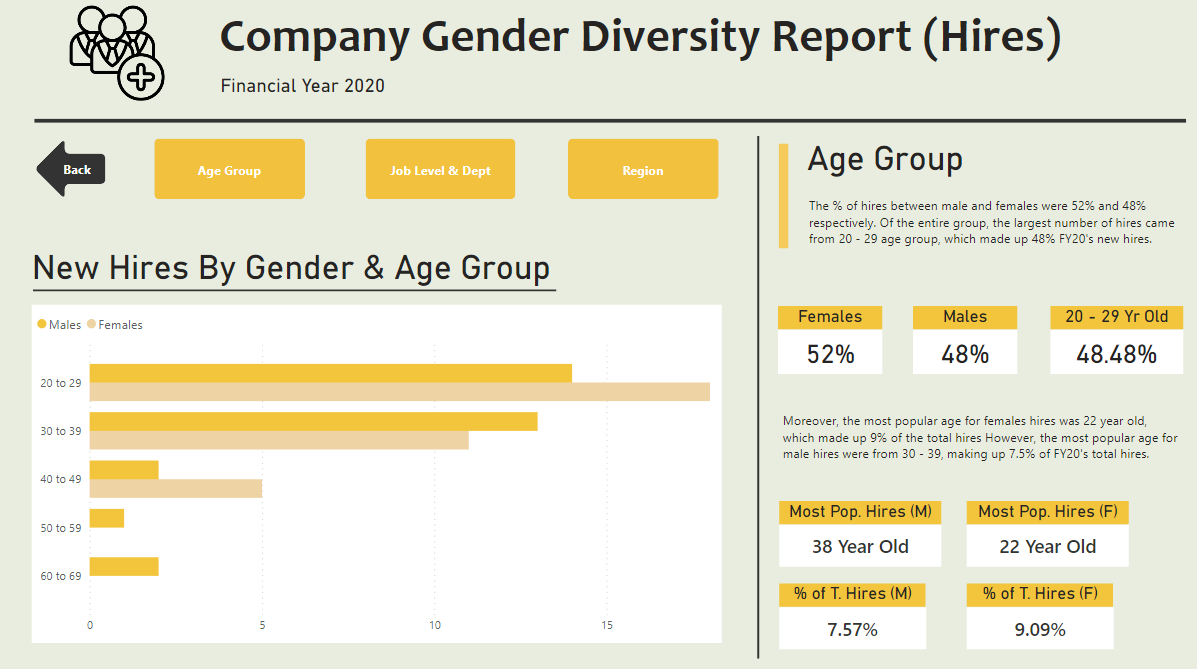

What the dashboard file says about the page in this screenshot:
{"tool":"powerbi","page":{"name":"Hires","canvas":[1280,720],"ordinal":1},"visuals":[{"type":"shape","title":"Company Gender Diversity Report (Hires)","box":[224.3,16.7,908.1,66.9],"z":0,"group":"g14"},{"type":"actionButton","title":"Region Button","box":[596.6,158,160.4,65.1],"z":0,"group":"g13"},{"type":"group","id":"g1","title":"AG Right (Body Insight & Cards)","box":[821.2,158,436.6,544.1],"z":0,"group":"g11"},{"type":"shape","title":"New Hires By Gender & Age Group ","box":[25.3,273.6,558.4,47],"z":0,"group":"g9"},{"type":"clusteredBarChart","title":"New Hires By Age Group","fields":{"Category":["FACT-table.AgeGroup"],"Y":["Measures.Hires.FY20 Total Male Hires","Measures.Hires.FY20 Total Female Hires"]},"box":[25.3,335.3,735.7,360.6],"z":0,"group":"g8"},{"type":"card","fields":{"Values":["Measures.Hires.FY20 % of Female Hires Against Total FY20 Hires"]},"box":[821.2,361.9,111.1,47.5],"z":0,"group":"g16"},{"type":"card","fields":{"Values":["Measures.Hires.FY20 % of Male Hires Against Total FY20 Hires"]},"box":[965.7,361.9,111.1,47.5],"z":0,"group":"g15"},{"type":"card","fields":{"Values":["Measures.Hires.FY20 % New Hires By Gender & Age Group For 20 to 29"]},"box":[1111.9,361.9,141.3,47.5],"z":0,"group":"g17"},{"type":"group","id":"g2","title":"Group 5","box":[821.9,545.1,172.5,24.9],"z":0,"group":"g10"},{"type":"shape","title":"Most Pop. Hires (M)","box":[821.9,545.1,172.5,24.9],"z":0,"group":"g2"},{"type":"group","id":"g3","title":"Group 5","box":[1021.9,545.1,172.5,24.9],"z":0,"group":"g12"},{"type":"shape","title":"Most Pop. Hires (F)","box":[1021.9,545.1,172.5,24.9],"z":0,"group":"g3"},{"type":"group","id":"g4","title":"Females % T. Hires","box":[821.9,632.2,156.8,69.9],"z":0,"group":"g1"},{"type":"group","id":"g5","title":"Group 5","box":[821.9,632.2,156.3,24.9],"z":0,"group":"g4"},{"type":"shape","title":"% of T. Hires (M)","box":[821.9,632.2,156.3,24.9],"z":0,"group":"g5"},{"type":"group","id":"g6","title":"Group 5","box":[1021.9,632.2,156.3,24.9],"z":0,"group":"g7"},{"type":"shape","title":"% of T. Hires (F)","box":[1021.9,632.2,156.3,24.9],"z":0,"group":"g6"},{"type":"group","id":"g7","title":"Males % T. Hires","box":[1021.9,632.2,156.8,69.9],"z":500,"group":"g1"},{"type":"shape","title":"Financial Year 2020","box":[226.4,89.1,399.3,33.9],"z":1000,"group":"g14"},{"type":"actionButton","title":"Job Level & Dept Button","box":[380.7,158,160,65.1],"z":1000,"group":"g13"},{"type":"group","id":"g8","title":"AG Left (Visuals)","box":[25.3,273.6,735.7,422.3],"z":1000,"group":"g11"},{"type":"group","id":"g9","title":"New Hires By Age Group (Headline)","box":[25.3,273.6,559.6,63.9],"z":1000,"group":"g8"},{"type":"shape","title":"Underline","box":[26.5,301.3,558.4,36.2],"z":1000,"group":"g9"},{"type":"shape","title":"Females","box":[821.2,337,111.1,24.9],"z":1000,"group":"g16"},{"type":"shape","title":"Males","box":[965.7,337,111.1,24.9],"z":1000,"group":"g15"},{"type":"shape","title":"20 - 29 Yr Old","box":[1111.9,337,141.3,24.9],"z":1000,"group":"g17"},{"type":"group","id":"g10","title":"Males Age Card","box":[821.9,545.1,173,69.9],"z":1000,"group":"g1"},{"type":"shape","title":"22 Year Old","box":[821.9,570.4,173,44.6],"z":1000,"group":"g10"},{"type":"shape","title":"22 Year Old","box":[1021.9,570.4,173,44.6],"z":1000,"group":"g12"},{"type":"shape","title":"22 Year Old","box":[821.9,657.5,156.8,44.6],"z":1000,"group":"g4"},{"type":"shape","title":"22 Year Old","box":[1021.9,657.5,156.8,44.6],"z":1000,"group":"g7"},{"type":"image","title":"Hire Page Icon","box":[43.2,11.1,144.9,111.4],"z":2000,"group":"g14"},{"type":"group","id":"g11","title":"Age Group","box":[25.3,158,1232.6,544.1],"z":2000},{"type":"actionButton","title":"Age Group Button","box":[155.5,158,160.4,65.1],"z":2000,"group":"g13"},{"type":"group","id":"g12","title":"Females Age Card","box":[1021.9,545.1,173,69.9],"z":2000,"group":"g1"},{"type":"shape","title":"Body Line Separator","box":[27.5,120.8,1229.2,37.1],"z":3000,"group":"g14"},{"type":"group","id":"g13","title":"Navigation Buttons","box":[27.7,158,729.3,65.1],"z":3000},{"type":"actionButton","title":"Back Button","box":[27.7,158,76,65.1],"z":3000,"group":"g13"},{"type":"textbox","title":"AG insight 2","box":[821.2,445,435.4,71.2],"z":3000,"group":"g1"},{"type":"group","id":"g14","title":"Headline","box":[27.5,11.1,1229.2,701.6],"z":4000},{"type":"shape","title":"Line Separator","box":[793.9,155.2,11,557.6],"z":4000,"group":"g14"},{"type":"group","id":"g15","title":"Males Group %","box":[965.7,337,110,69.9],"z":4000,"group":"g1"},{"type":"group","id":"g16","title":"Females Group %","box":[821.2,337,110,69.9],"z":5000,"group":"g1"},{"type":"group","id":"g17","title":"Age Group %","box":[1111.9,337,141.1,69.9],"z":6000,"group":"g1"},{"type":"textbox","title":"AG insight 1","box":[849,215,408.8,80],"z":7000,"group":"g1"},{"type":"shape","title":"Age Group Yellow Sub-Head (Line)","box":[821.2,163,12,112],"z":8000,"group":"g1"},{"type":"shape","title":"Age Group","box":[852,158,168.4,46.2],"z":9000,"group":"g1"}]}

Visuals, with their boxes in screenshot pixels (x1, y1, x2, y2), scaled from the page's 1280x720 canvas onto the 1197x669 screenshot:
"Company Gender Diversity Report (Hires)" shape: 210 16 1059 78
"Region Button" actionButton: 558 147 708 207
"AG Right (Body Insight & Cards)" group: 768 147 1176 652
"New Hires By Gender & Age Group " shape: 24 254 546 298
"New Hires By Age Group" clusteredBarChart: 24 312 712 647
card - Measures.Hires.FY20 % of Female Hires Against Total FY20 Hires: 768 336 872 380
card - Measures.Hires.FY20 % of Male Hires Against Total FY20 Hires: 903 336 1007 380
card - Measures.Hires.FY20 % New Hires By Gender & Age Group For 20 to 29: 1040 336 1172 380
"Group 5" group: 769 506 930 530
"Most Pop. Hires (M)" shape: 769 506 930 530
"Group 5" group: 956 506 1117 530
"Most Pop. Hires (F)" shape: 956 506 1117 530
"Females % T. Hires" group: 769 587 915 652
"Group 5" group: 769 587 915 611
"% of T. Hires (M)" shape: 769 587 915 611
"Group 5" group: 956 587 1102 611
"% of T. Hires (F)" shape: 956 587 1102 611
"Males % T. Hires" group: 956 587 1102 652
"Financial Year 2020" shape: 212 83 585 114
"Job Level & Dept Button" actionButton: 356 147 506 207
"AG Left (Visuals)" group: 24 254 712 647
"New Hires By Age Group (Headline)" group: 24 254 547 314
"Underline" shape: 25 280 547 314
"Females" shape: 768 313 872 336
"Males" shape: 903 313 1007 336
"20 - 29 Yr Old" shape: 1040 313 1172 336
"Males Age Card" group: 769 506 930 571
"22 Year Old" shape: 769 530 930 571
"22 Year Old" shape: 956 530 1117 571
"22 Year Old" shape: 769 611 915 652
"22 Year Old" shape: 956 611 1102 652
"Hire Page Icon" image: 40 10 176 114
"Age Group" group: 24 147 1176 652
"Age Group Button" actionButton: 145 147 295 207
"Females Age Card" group: 956 506 1117 571
"Body Line Separator" shape: 26 112 1175 147
"Navigation Buttons" group: 26 147 708 207
"Back Button" actionButton: 26 147 97 207
"AG insight 2" textbox: 768 413 1175 480
"Headline" group: 26 10 1175 662
"Line Separator" shape: 742 144 753 662
"Males Group %" group: 903 313 1006 378
"Females Group %" group: 768 313 871 378
"Age Group %" group: 1040 313 1172 378
"AG insight 1" textbox: 794 200 1176 274
"Age Group Yellow Sub-Head (Line)" shape: 768 151 779 256
"Age Group" shape: 797 147 954 190
